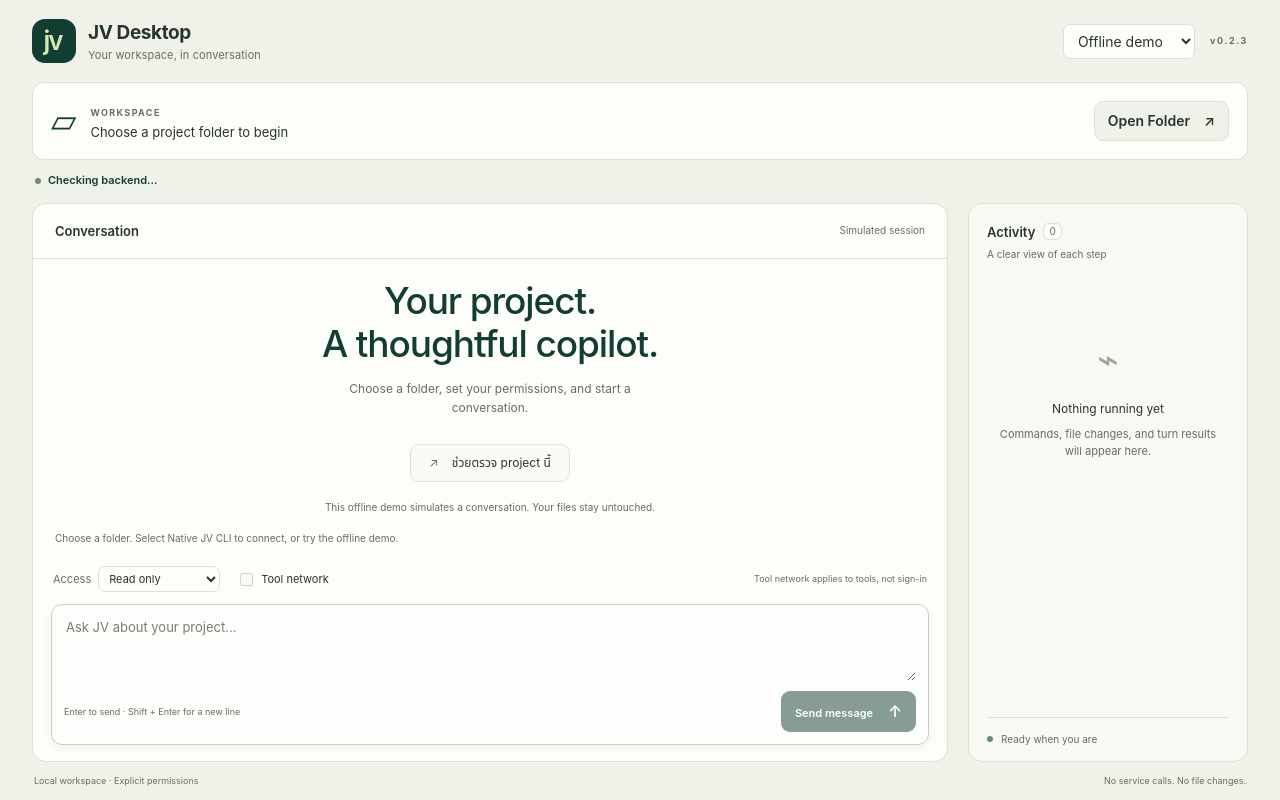
workspace and conversation › requires selection, completes an offline conversation, and stays usable
This screenshot has width=1280, height=800.
Step 1. Type "ช่วยตรวจ project นี้" into the text box named "Message JV" → (490, 649), box [64,617,916,681]
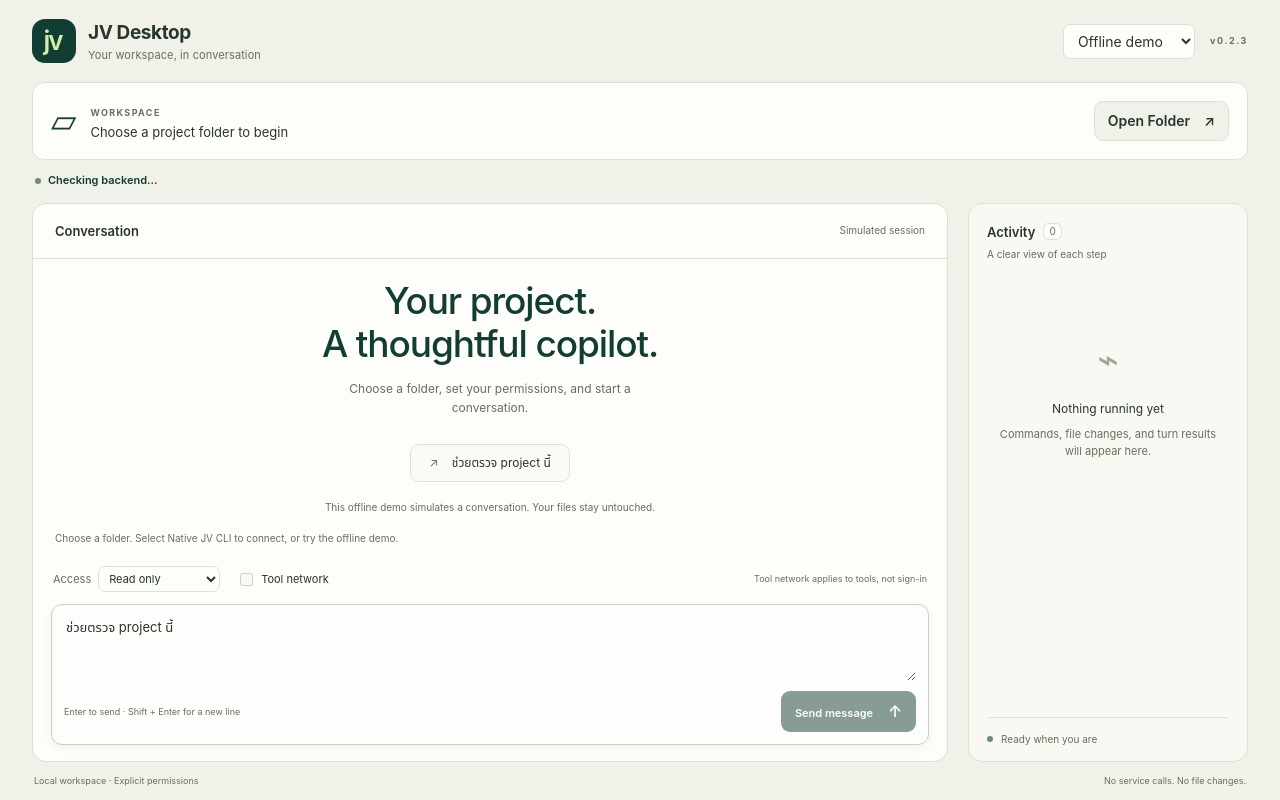
Expected: the button "Send message ↑" is disabled, [781,691,916,732]
Step 2. Click the button "Open Folder↗" → (1161, 121), box [1094,101,1229,141]
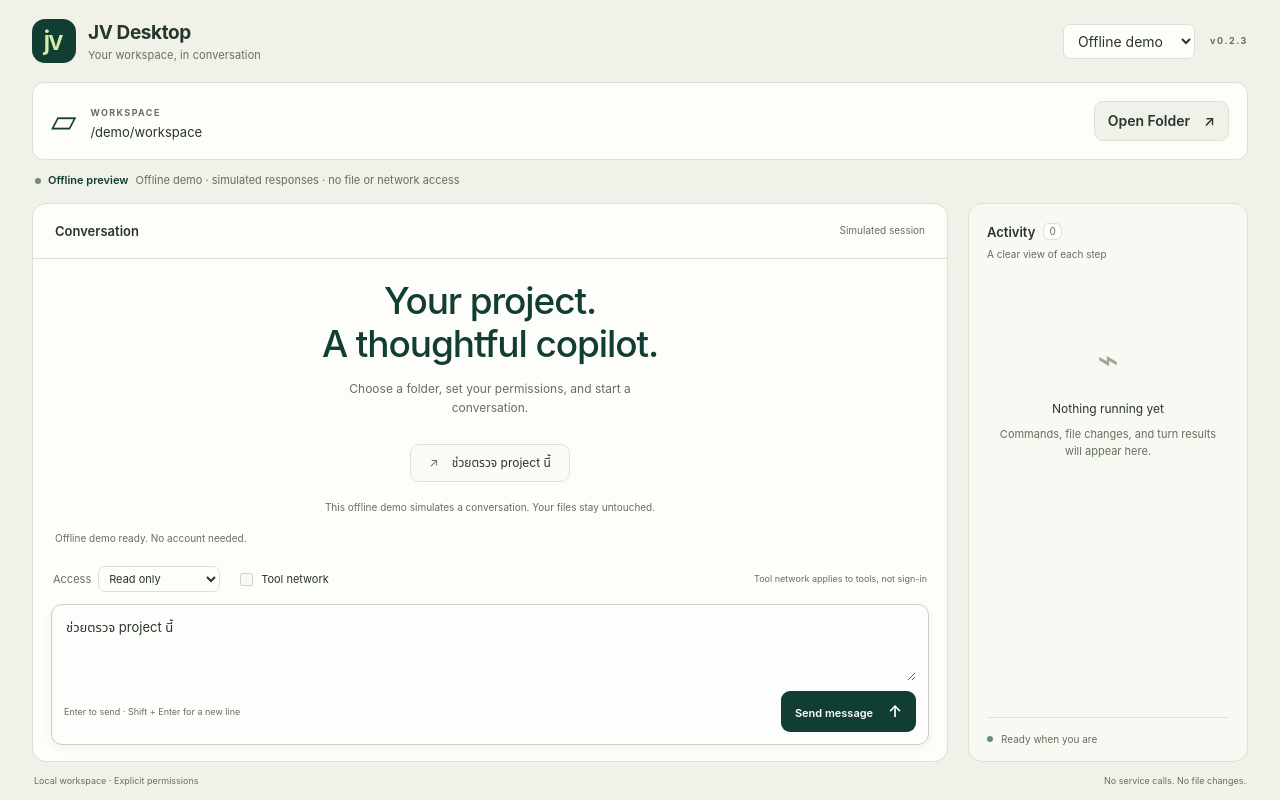
Result: the button "Send message ↑" is enabled
Step 3. Click the button "Send message ↑" → (848, 712), box [781,691,916,732]
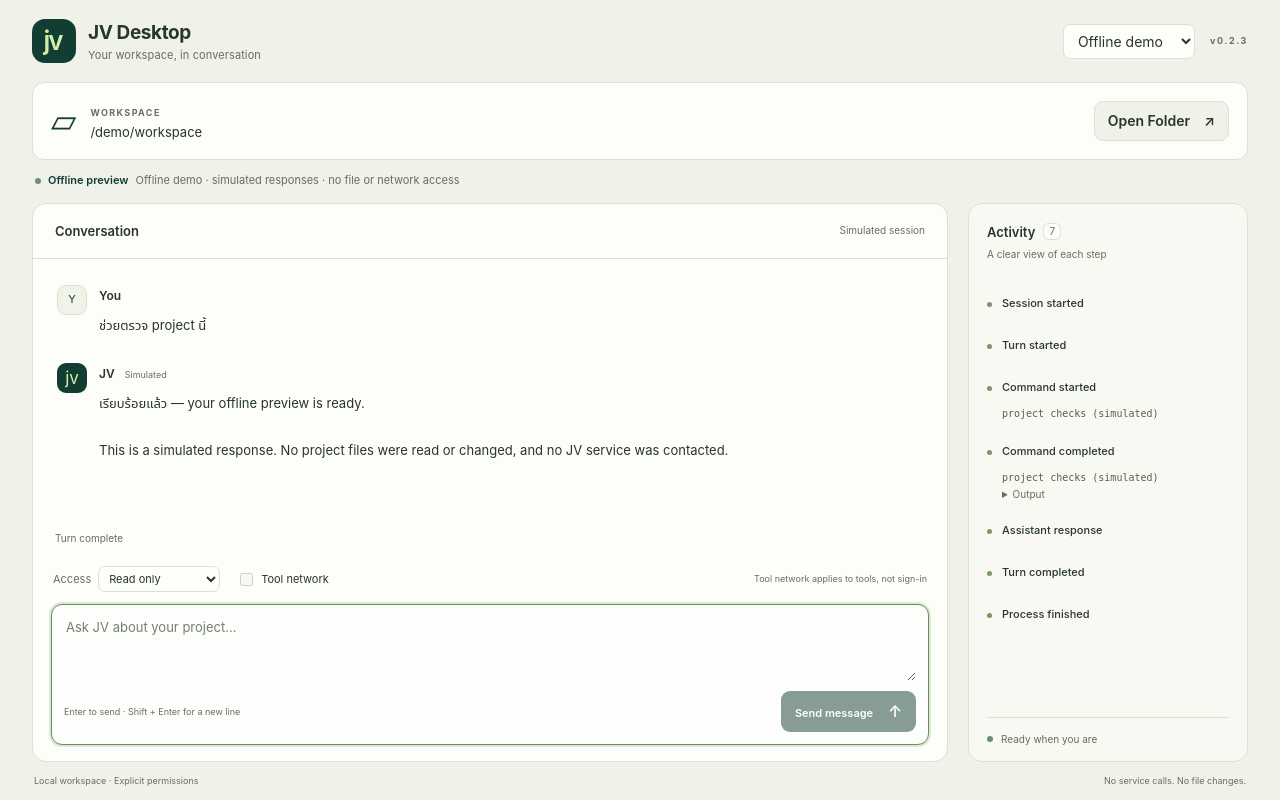
Result: the text "your offline preview is ready" is shown at [99,395,728,458]
Result: the text "Turn complete" is shown at [55,532,123,544]
Result: the text "Command completed" is shown at [1002,444,1114,458]
